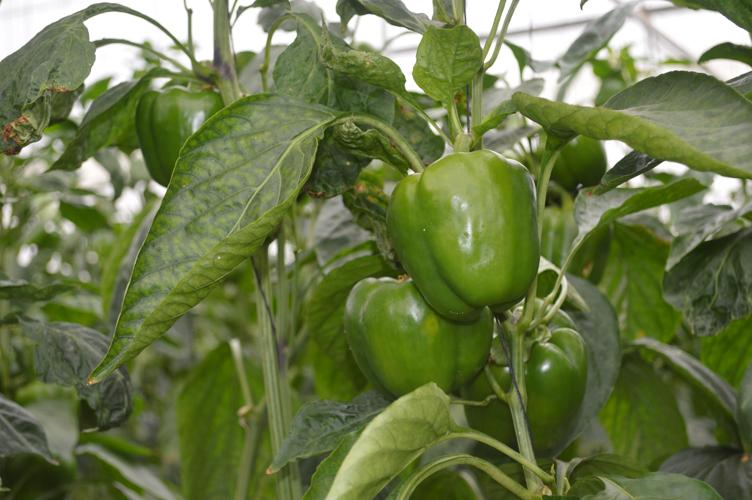BellPepper: (383, 151, 541, 320), (341, 280, 491, 401), (454, 328, 582, 458), (137, 89, 218, 186), (529, 128, 609, 193)
